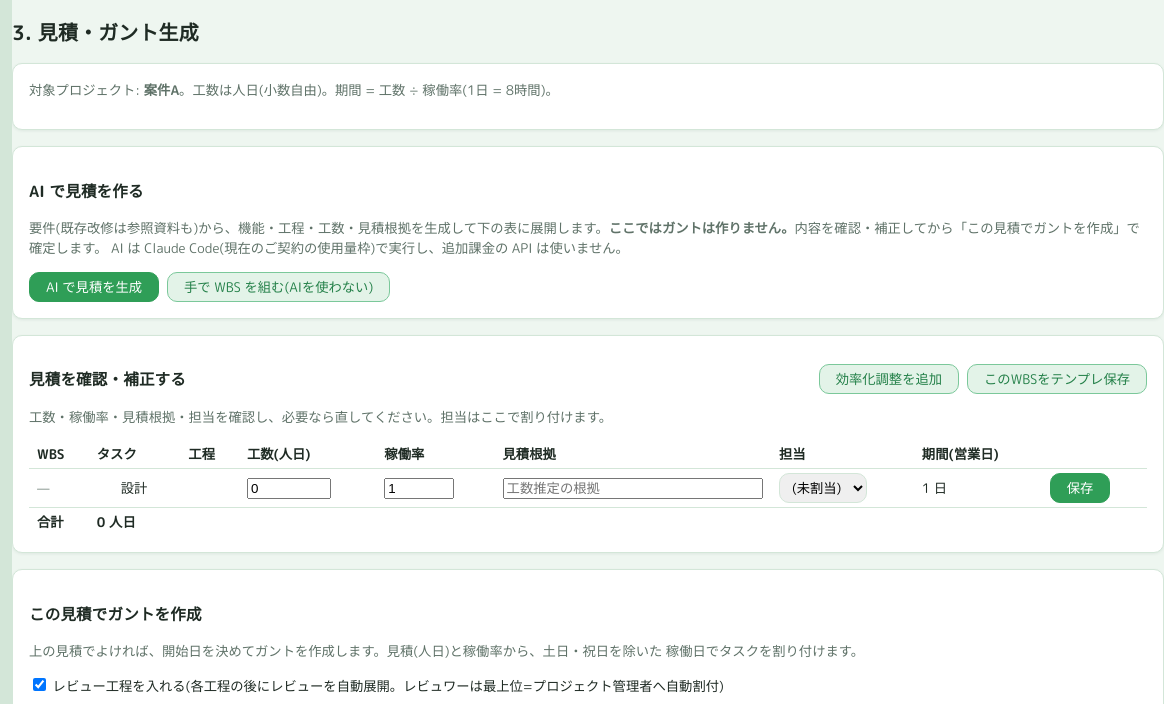
Test: EstimatePage (US-038) › 見積を入力して保存すると合計に反映される
Replace the text in the number field named "設計 の工数" with "3": (289,488) [247,478,331,499]
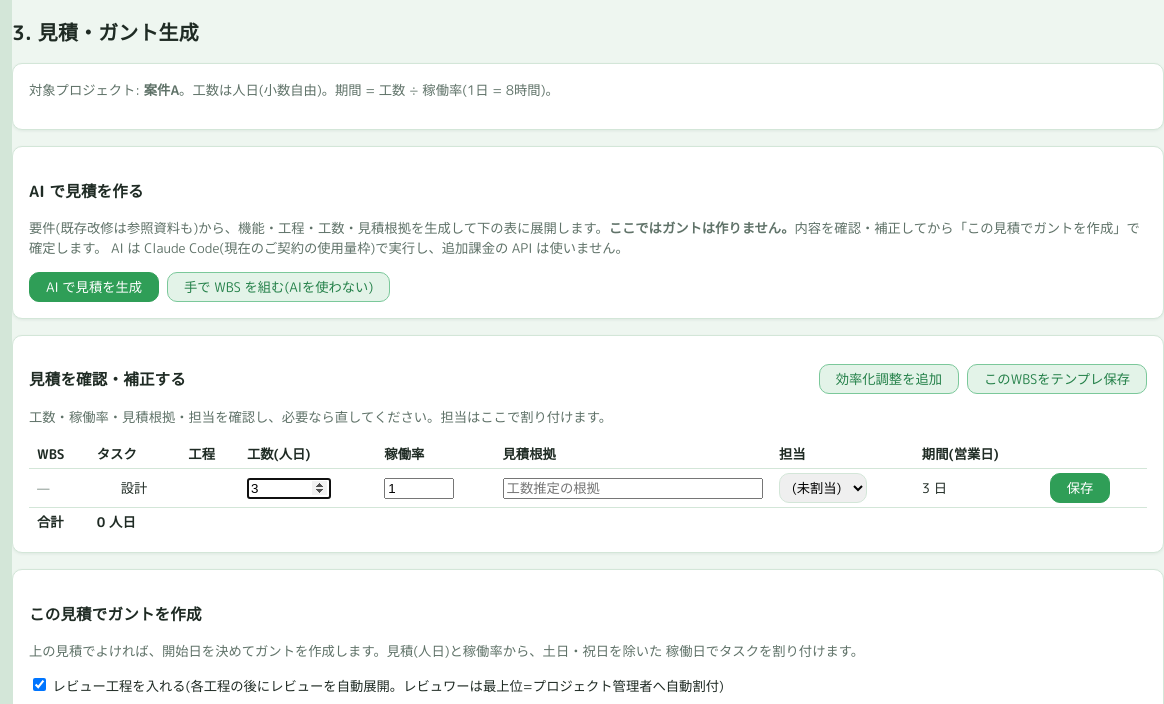
Click the button "保存": (1080,488) [1050,473,1110,503]
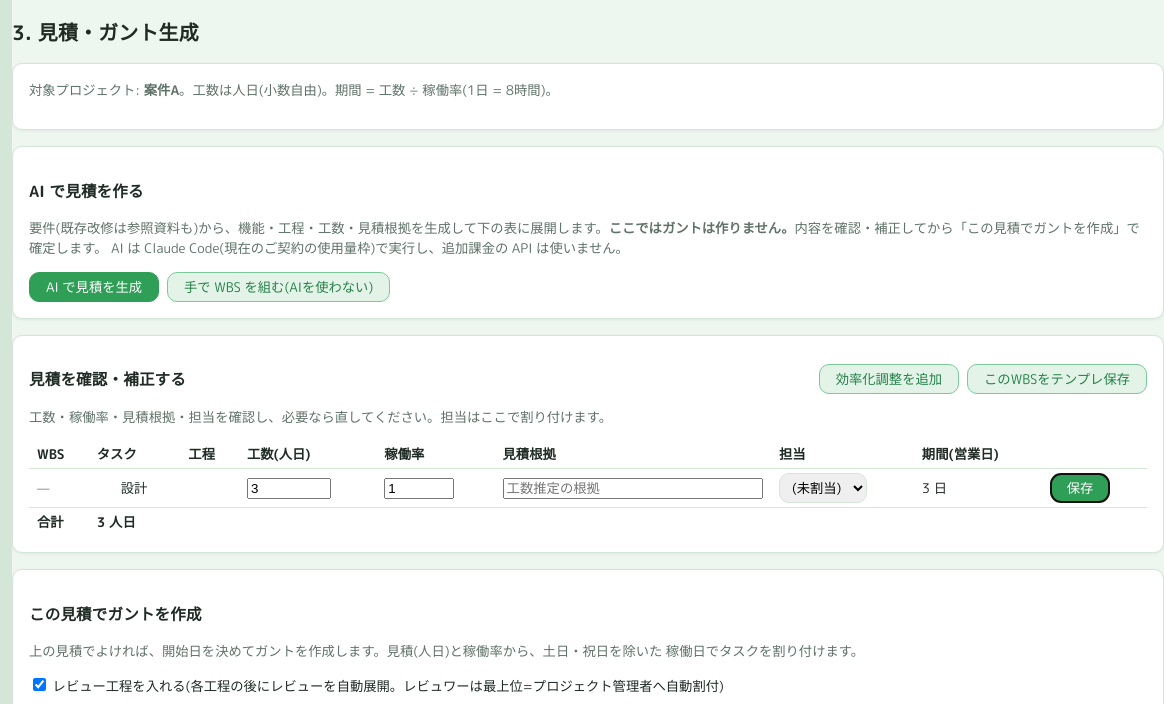
Expected: the text "3 人日" is shown, [89,508,1147,536]
